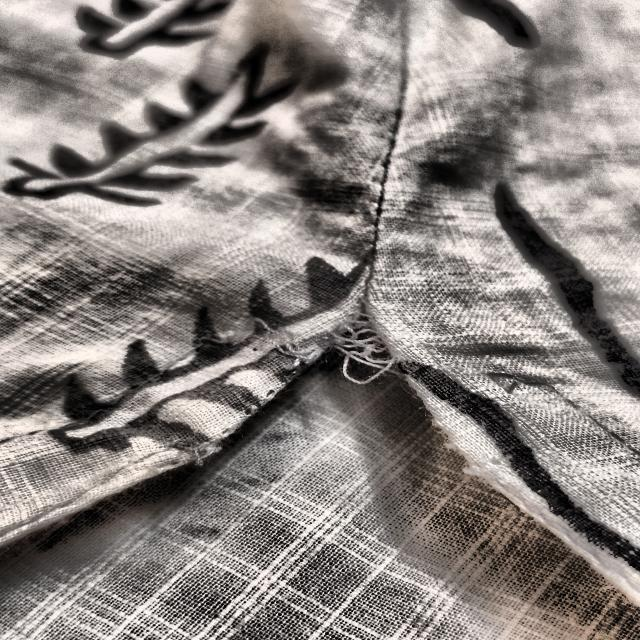gray stitch: (242, 296, 421, 385)
